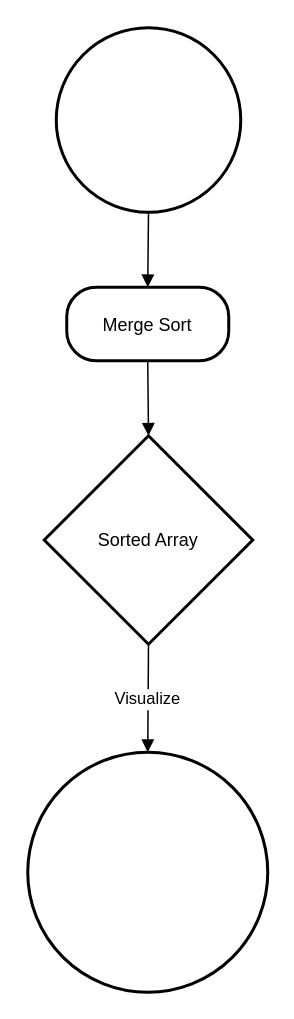
Some shapes in this 294 by 1019 pixel diagram are drawn without their labels. Each missing label, with the centre of its shape:
"Display Sorted Array" belongs at (x=147, y=871).
"Unsorted Array" belongs at (x=148, y=119).
